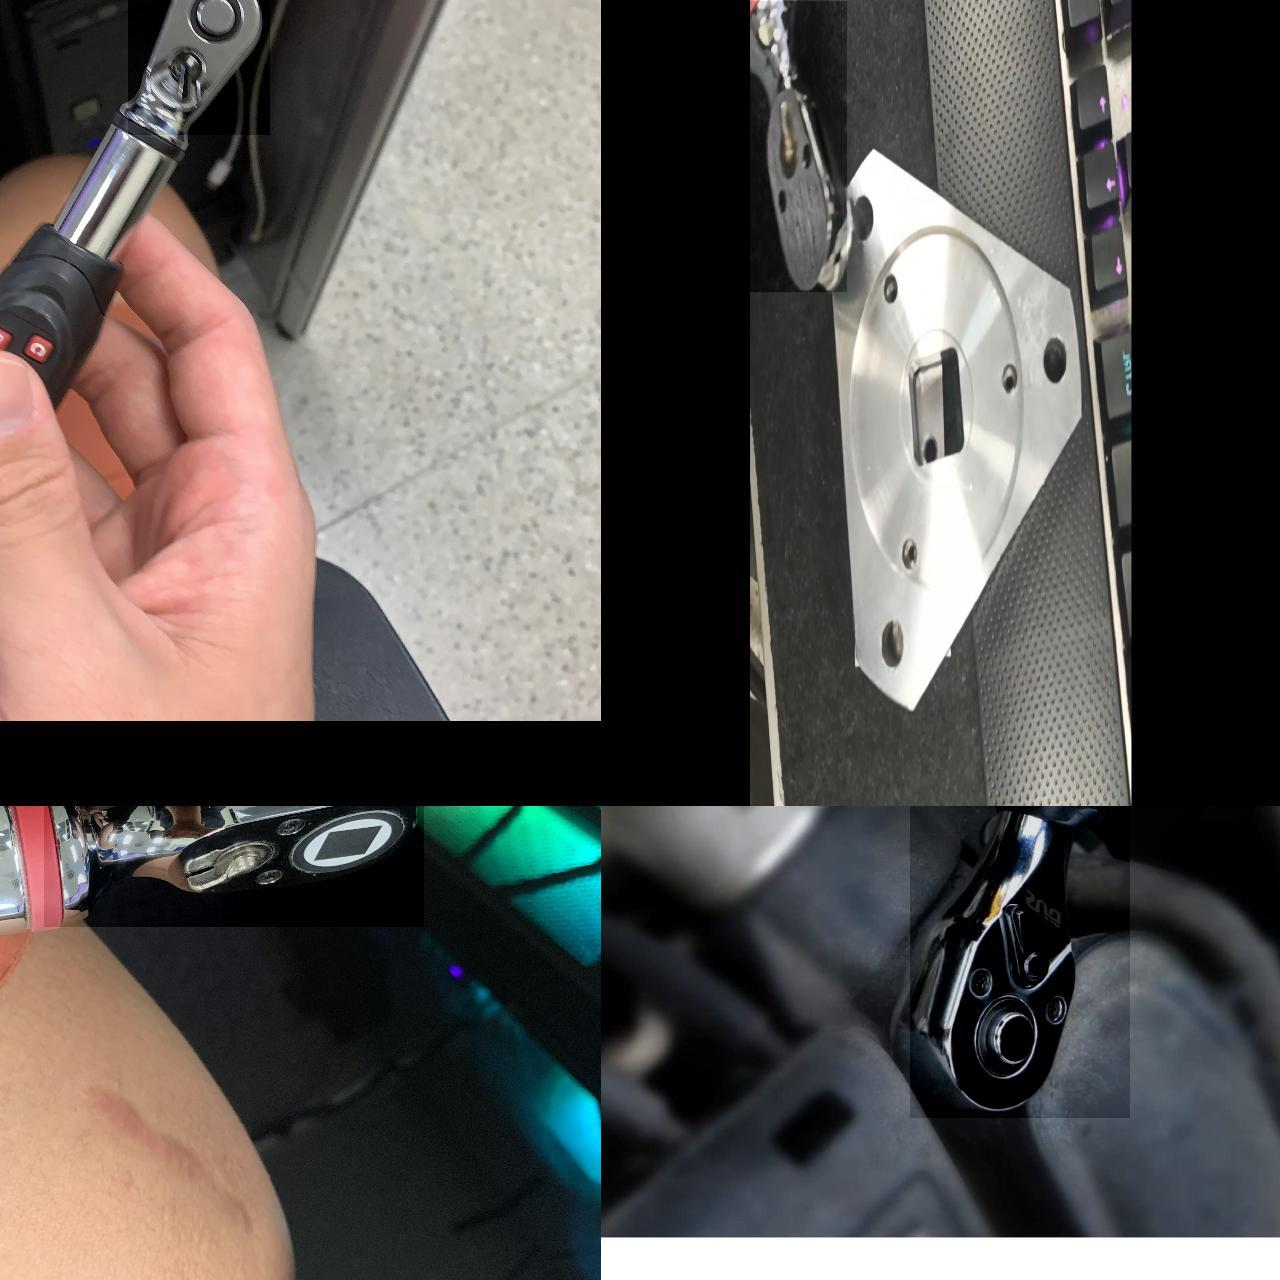Tool: (908, 806, 1129, 1118), (43, 806, 423, 927), (749, 1, 846, 292), (127, 0, 268, 135)
hole: (1039, 325, 1075, 388), (843, 189, 879, 245), (876, 612, 905, 673), (899, 540, 922, 577), (877, 275, 901, 306), (998, 362, 1017, 396)
